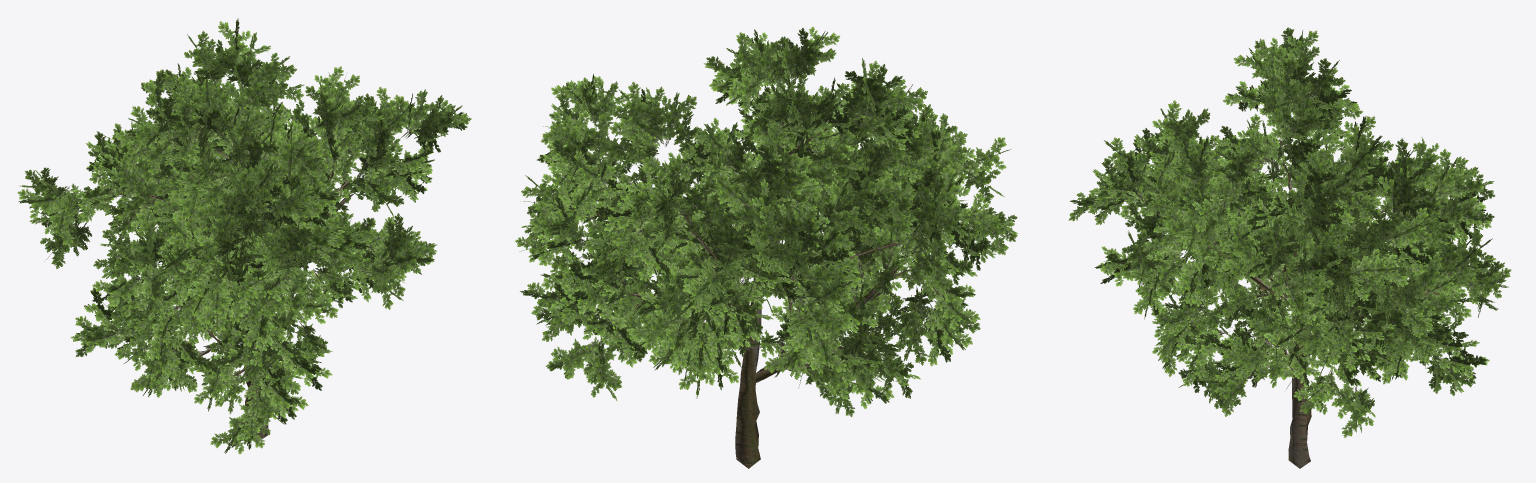
Rendered from large-c.glb.
3 renders of one model, left to right at view 1: azimuth 30°, elevation 25°; view 2: azimuth 150°, elevation 25°; view 3: azimuth 270°, elevation 25°, orthographic. The views are drawn at different scales.
Parts seen in each view (by area): view 1: large-c; view 2: large-c; view 3: large-c.
Part boxes in pixels (bbox=[...]): large-c: bbox=[17, 18, 471, 454]; large-c: bbox=[515, 26, 1017, 468]; large-c: bbox=[1068, 27, 1511, 468].
Size of the model in its own units: 10.77 by 10.69 by 10.85.
2 materials, 2 textured.
